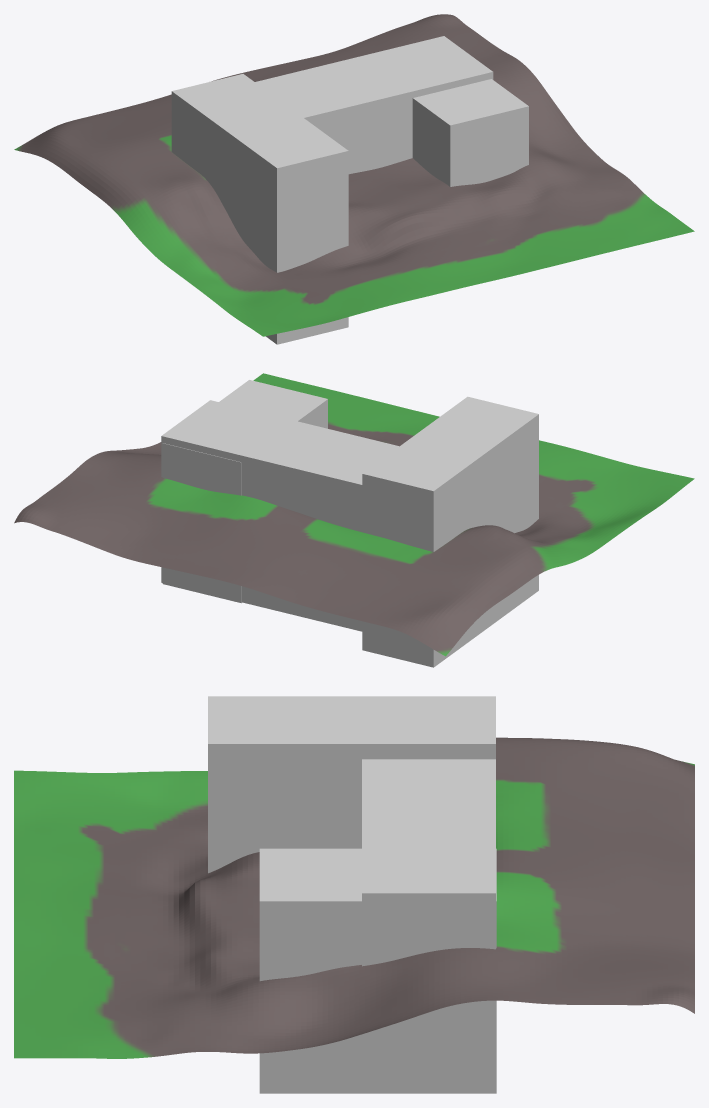
The model's file is terrain.gltf.
3 views of the same model, one above another, from view 1: azimuth 30°, elevation 25°; view 2: azimuth 150°, elevation 25°; view 3: azimuth 270°, elevation 25° (orthographic). The views are drawn at different scales.
Visible parts, largest first — view 1: terrain, Cube, Cube.001, Cube.002; view 2: terrain, Cube, Cube.001, Cube.002; view 3: terrain, Cube.001, Cube, Cube.002.
Part boxes in pixels (left/top/right/bottom): terrain: left=14, top=14, right=694, bottom=336; Cube: left=171, top=74, right=348, bottom=344; Cube.001: left=255, top=36, right=493, bottom=174; Cube.002: left=412, top=79, right=528, bottom=186; terrain: left=14, top=373, right=694, bottom=656; Cube: left=362, top=396, right=538, bottom=667; Cube.001: left=161, top=400, right=398, bottom=631; Cube.002: left=162, top=380, right=327, bottom=603; terrain: left=14, top=737, right=694, bottom=1058; Cube.001: left=362, top=759, right=495, bottom=1093; Cube: left=208, top=696, right=495, bottom=873; Cube.002: left=259, top=848, right=496, bottom=1093.
Bounding box in the file's own units: 0.5165 × 0.2017 × 0.5165.
